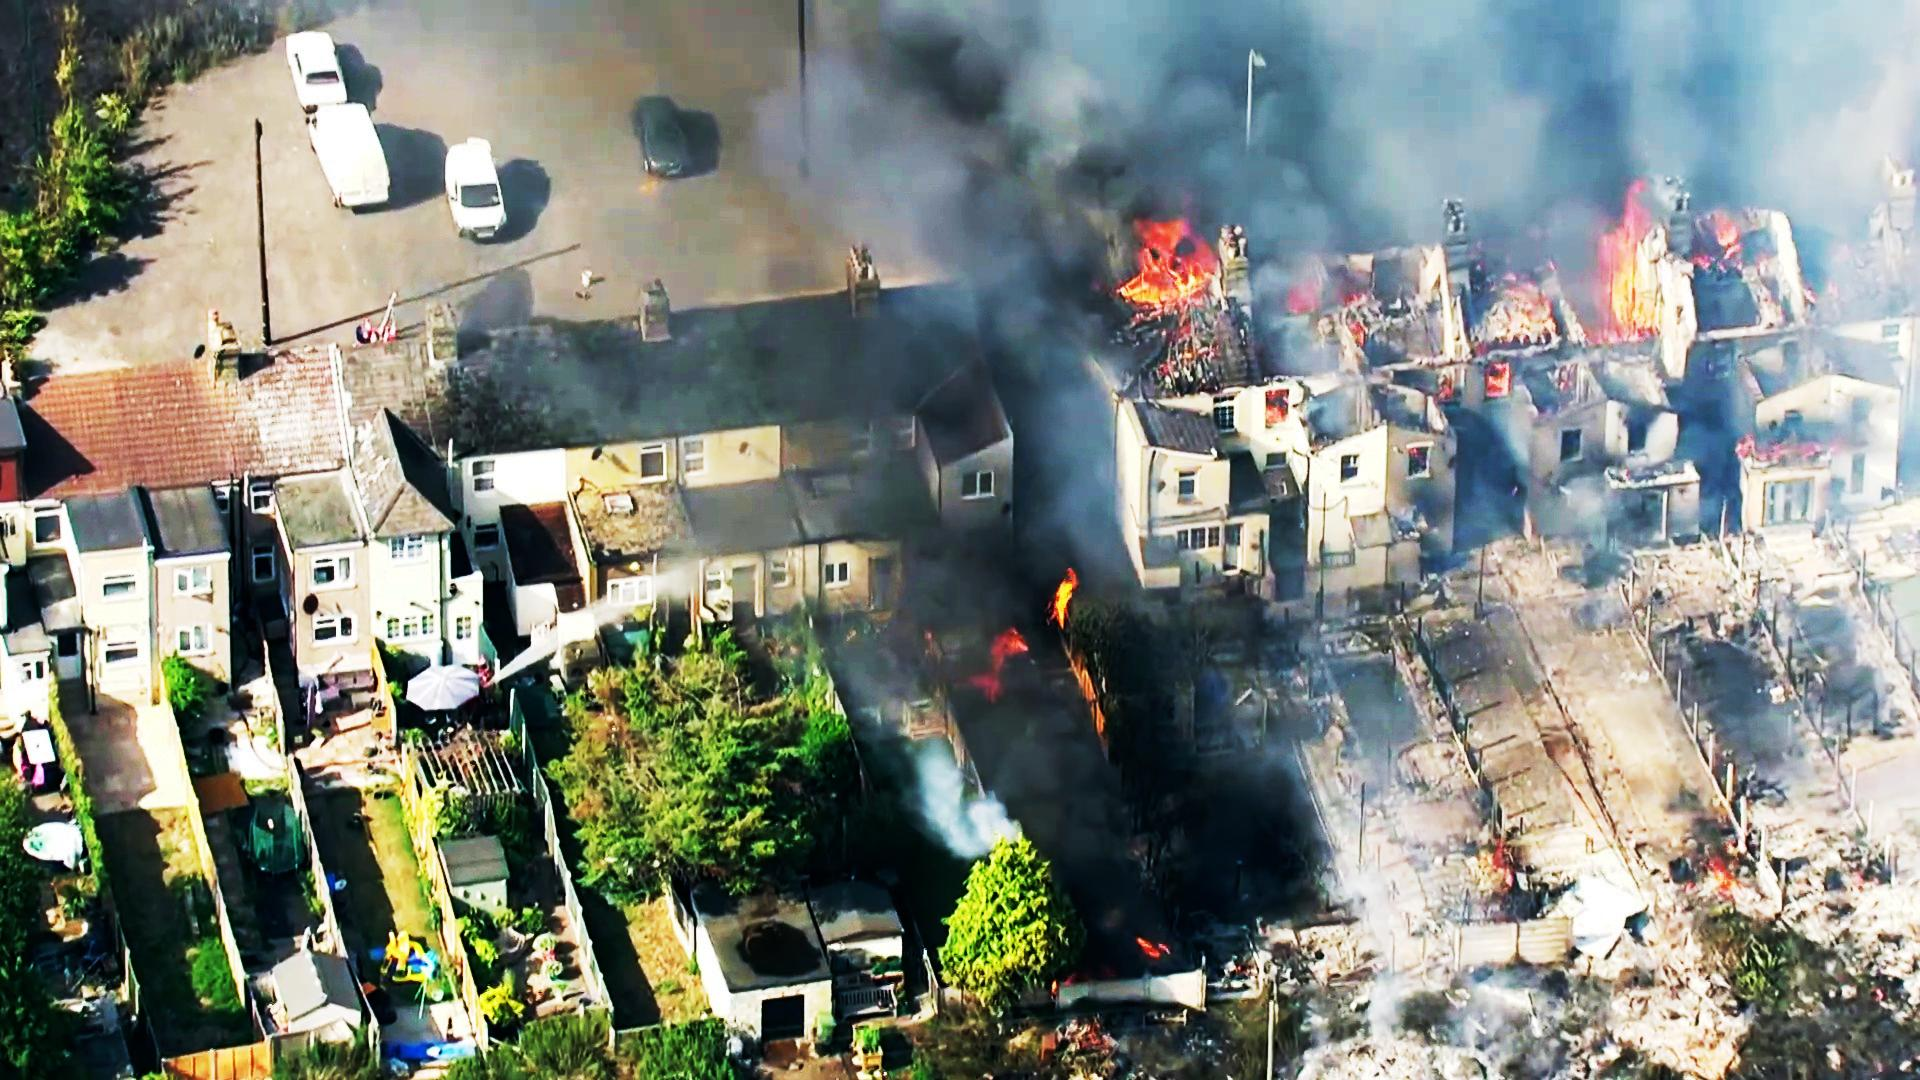fire: (1105, 220, 1233, 320), (1601, 183, 1673, 343)
smoke: (1004, 0, 1411, 189), (1323, 0, 1755, 138)
